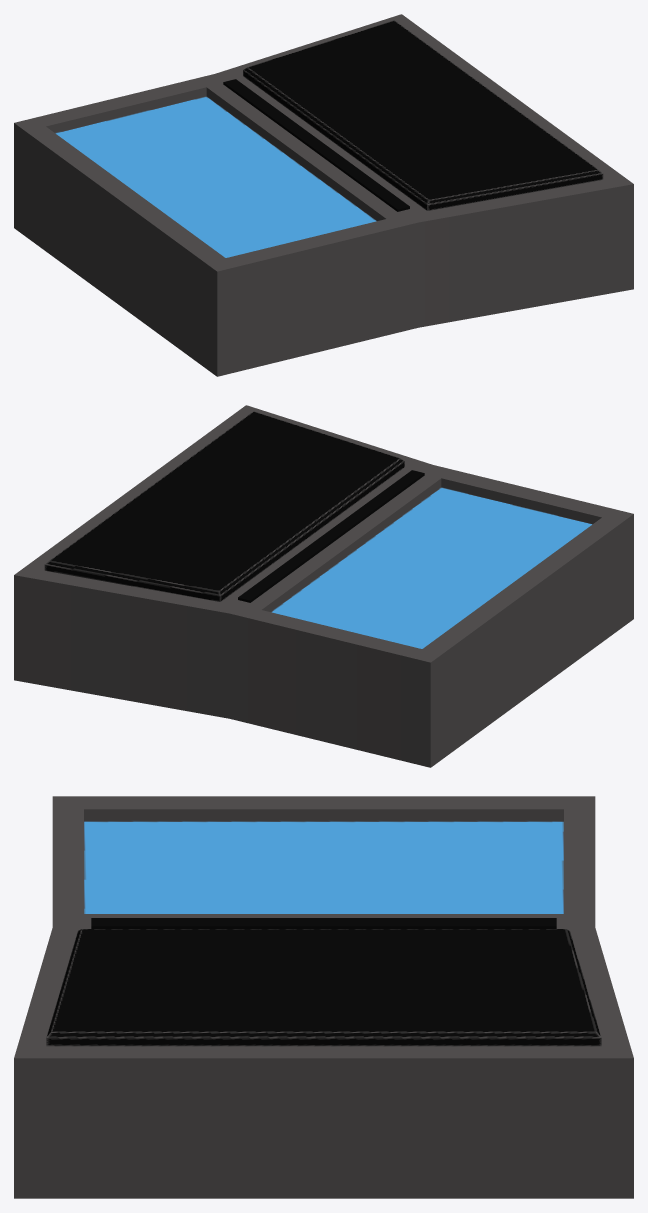
File: Ficha Programacion v1.fbx
3 views of the same model, one above another, from view 1: azimuth 30°, elevation 25°; view 2: azimuth 150°, elevation 25°; view 3: azimuth 270°, elevation 25° (orthographic). The views are drawn at different scales.
Visible parts, largest first — view 1: Ficha Programacion; view 2: Ficha Programacion; view 3: Ficha Programacion.
Part boxes in pixels (bbox=[...]): Ficha Programacion: bbox=[14, 14, 633, 376]; Ficha Programacion: bbox=[14, 405, 633, 767]; Ficha Programacion: bbox=[14, 796, 633, 1198].
Size of the model in its own units: 160 by 43.5 by 160.
